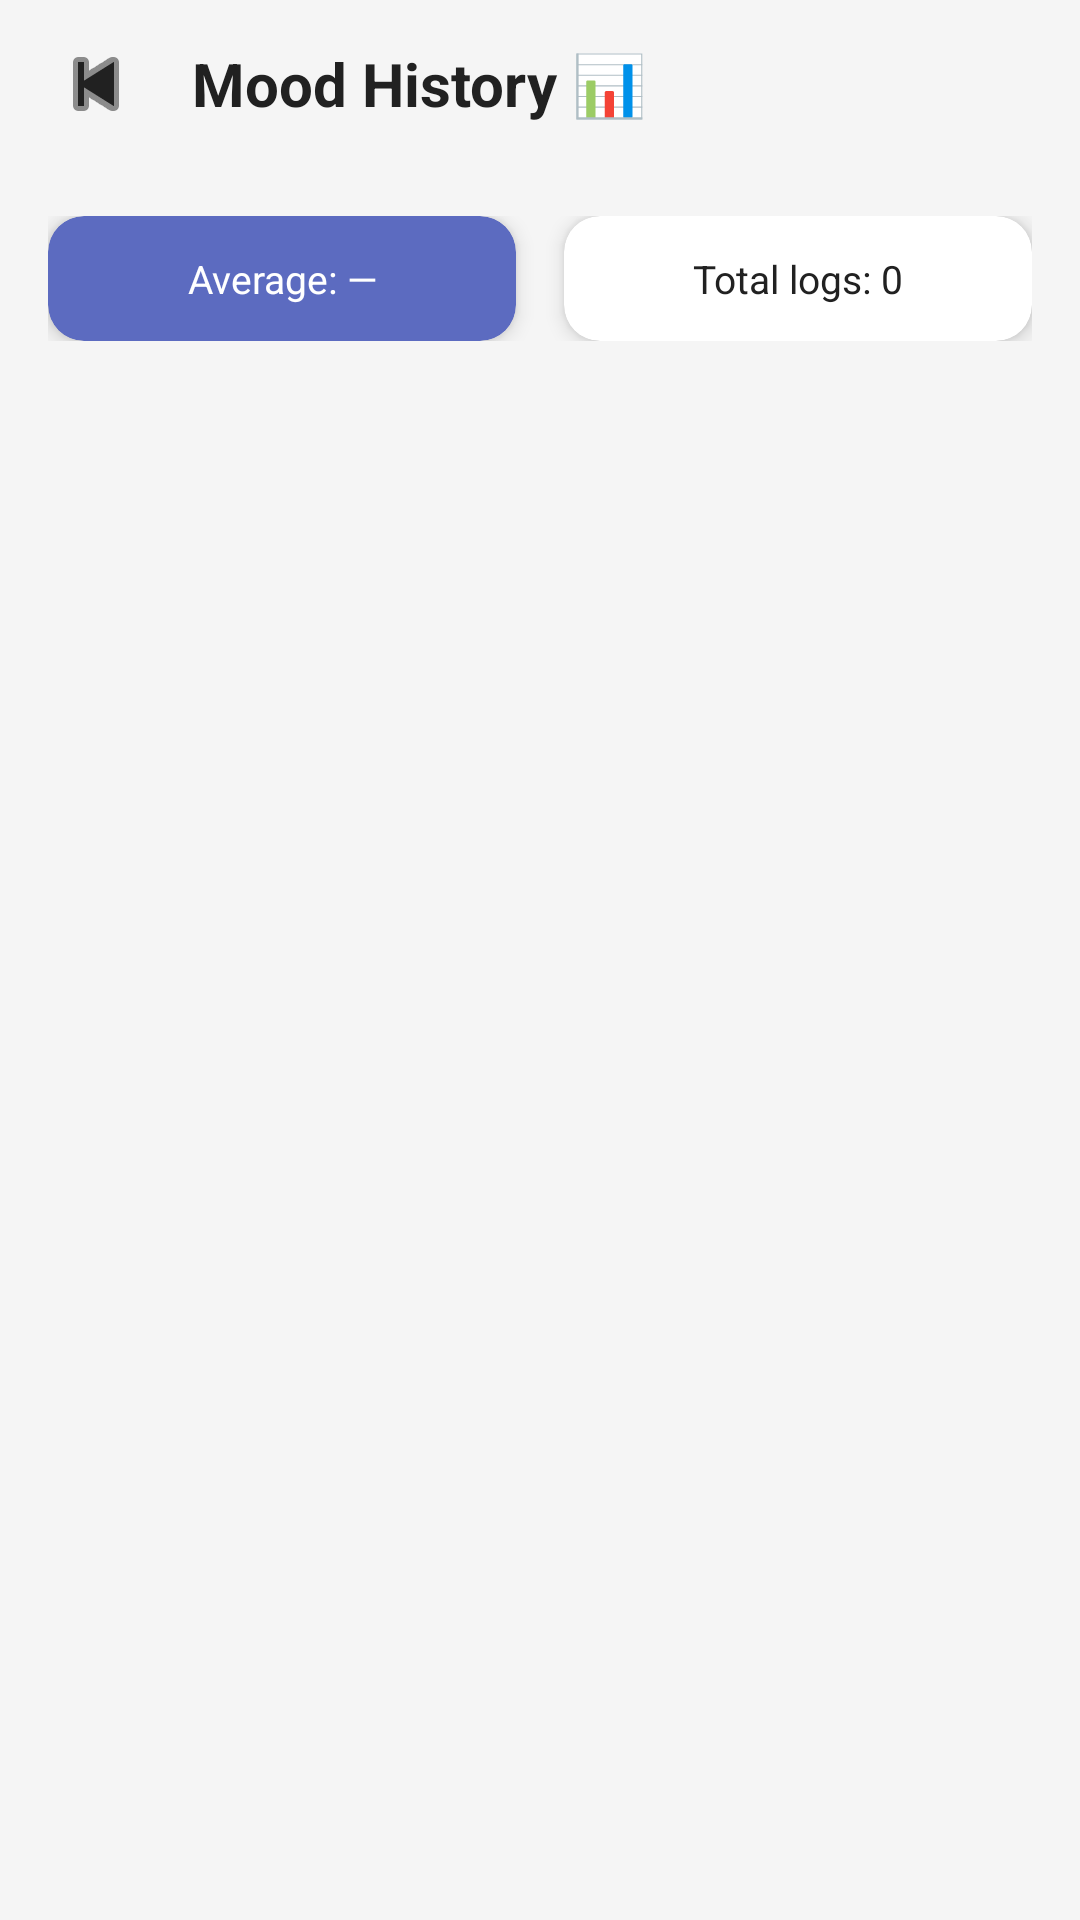

Named icons in this screenshot (1080 × 1920) and their bounding boxes, (x1, y1, x2, y2):
previous: (73, 57, 119, 111)
